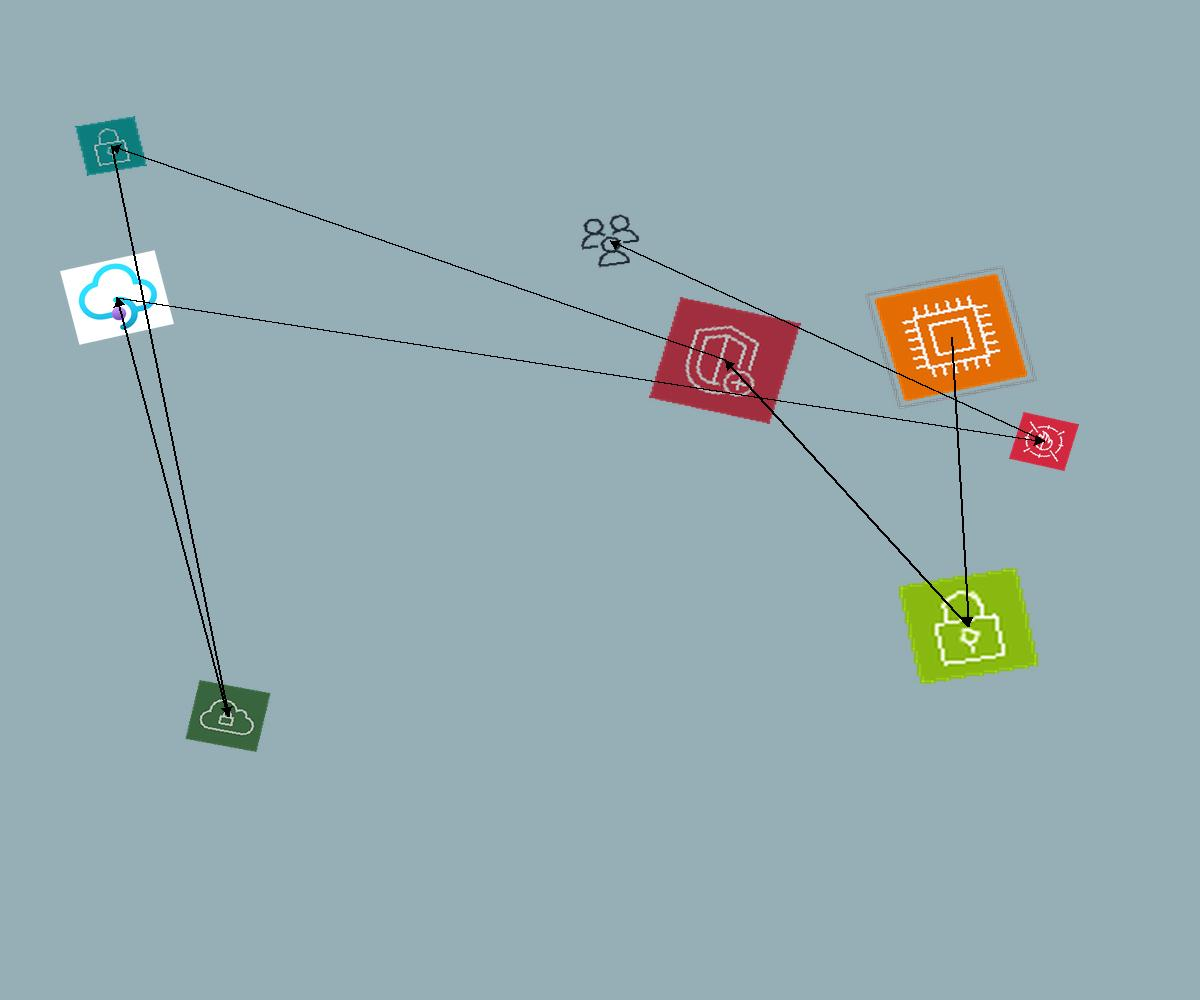AWS-Category_Compute: (864, 265, 1038, 410)
AWS-Private-subnet: (75, 116, 147, 176)
AWS-Private_vpc: (185, 680, 271, 752)
AWS-Public-subnet: (896, 566, 1041, 686)
AWS-Res_Users: (573, 210, 647, 272)
AWS-Shield: (649, 297, 801, 424)
AWS-WAF: (1009, 412, 1079, 471)
Azure_api_gateway: (60, 250, 174, 345)
